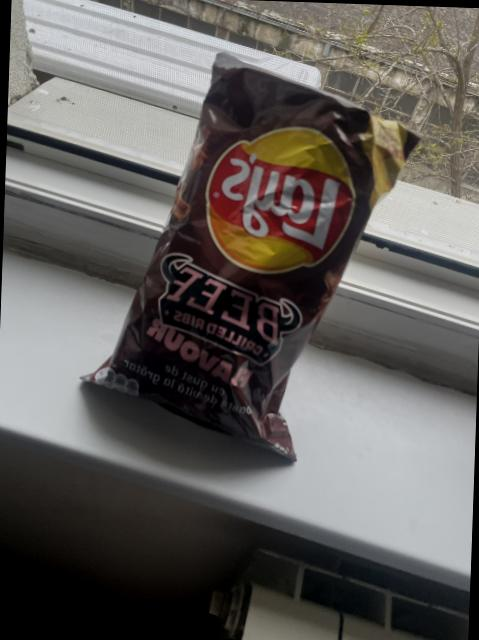Lays Beef Grilled Ribs 125g: (80, 54, 423, 463)
